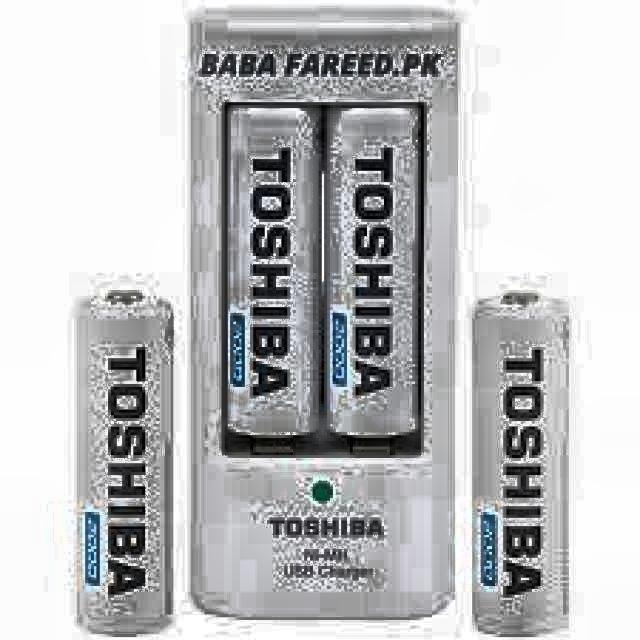battery: (77, 290, 171, 631), (472, 293, 566, 634), (224, 111, 320, 440)
